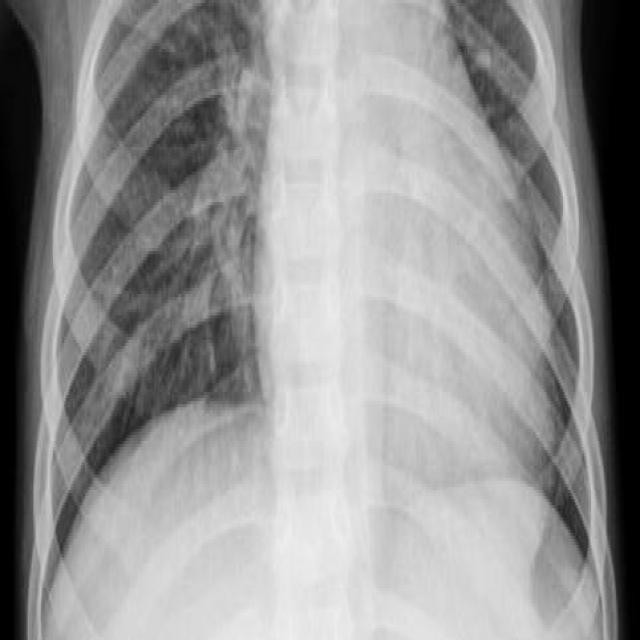low-pneumonia: (192, 37, 275, 353)
